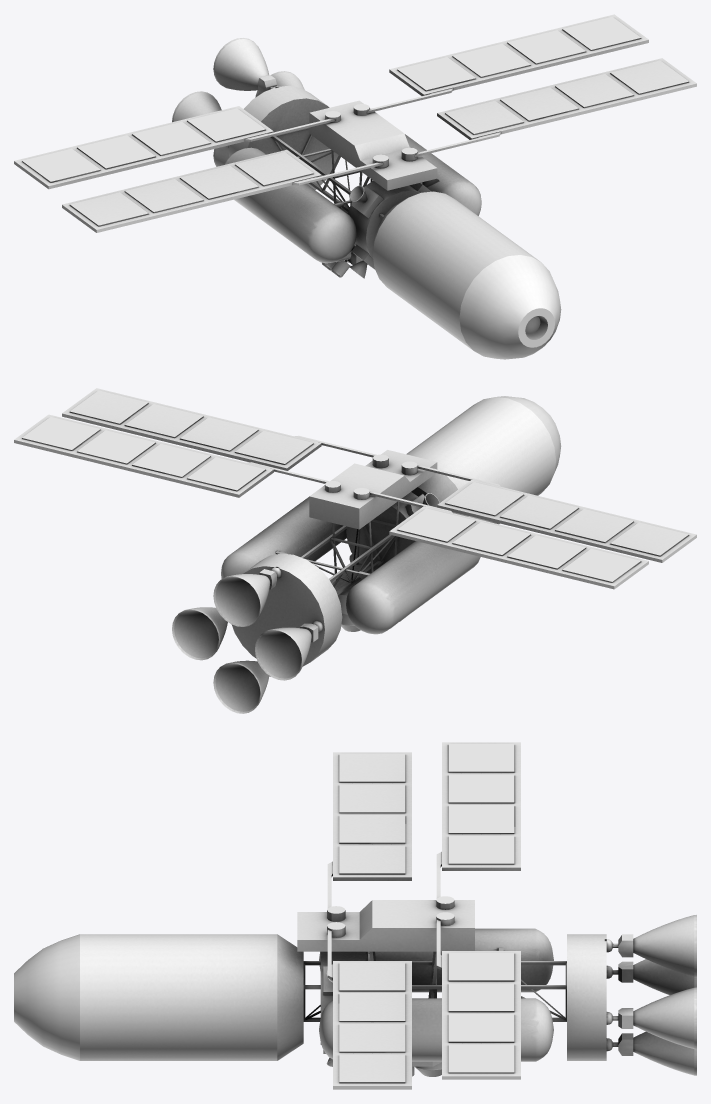
Rendered from satelite .fbx.
3 views of the same model, one above another, from view 1: azimuth 30°, elevation 25°; view 2: azimuth 150°, elevation 25°; view 3: azimuth 270°, elevation 25° (orthographic). The views are drawn at different scales.
Visible parts, largest first — view 1: Cylinder.002; view 2: Cylinder.002; view 3: Cylinder.002.
Boxes of the visible parts, x1,y1,x2,y2 form: Cylinder.002: (14,14,696,359); Cylinder.002: (14,388,696,713); Cylinder.002: (14,742,696,1089).
Bounding box in the file's own units: 724 × 168 × 626.
